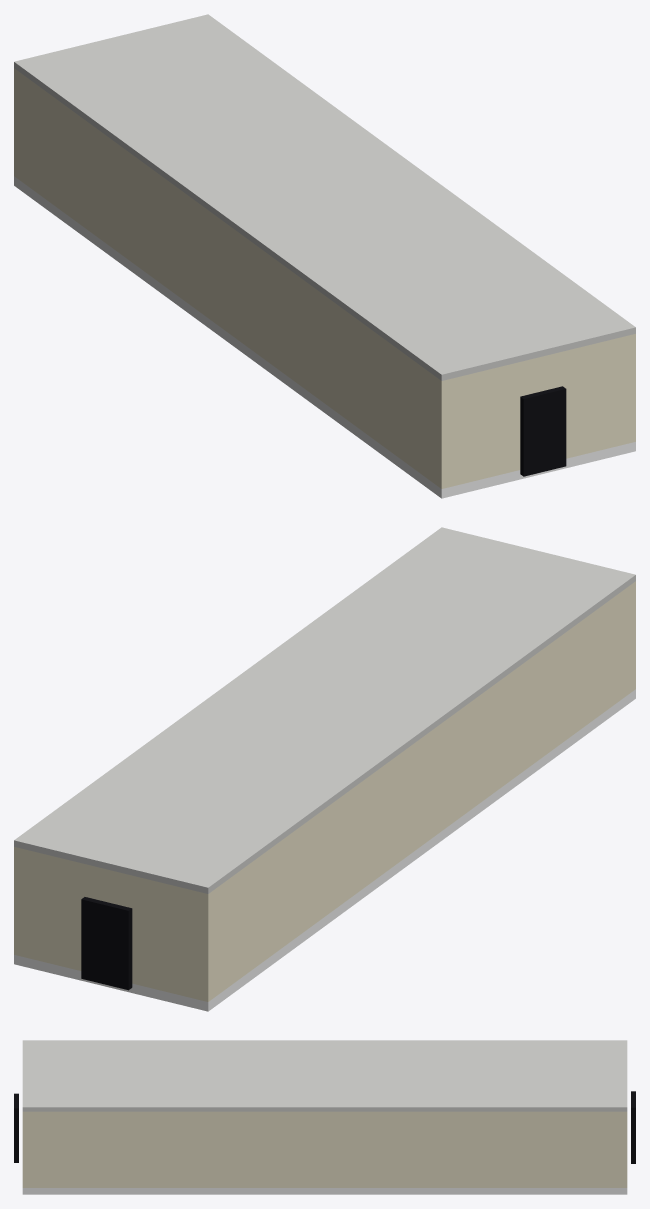
File: rdwe_painted_door.glb
3 views of the same model, one above another, from view 1: azimuth 30°, elevation 25°; view 2: azimuth 150°, elevation 25°; view 3: azimuth 270°, elevation 25° (orthographic). The views are drawn at different scales.
Parts seen in each view (by area): view 1: Room_Ceiling, Room_Wall_W_1, Room_Wall_S_1, Room_Wall_S_3, Room_Floor, Beyond_doors, Room_Wall_S_2; view 2: Room_Ceiling, Room_Wall_W_1, Room_Wall_N_1, Room_Wall_N_3, Room_Floor, Beyond_painted, Room_Wall_N_2; view 3: Room_Wall_E_1, Room_Ceiling, Room_Floor, Room_Wall_N_3, Room_Wall_S_3, Beyond_painted, Beyond_doors.
Boxes of the visible parts, <box> form: Room_Ceiling: <box>14,14,635,380</box>; Room_Wall_W_1: <box>17,71,438,486</box>; Room_Wall_S_1: <box>438,361,524,488</box>; Room_Wall_S_3: <box>553,334,635,458</box>; Room_Floor: <box>14,176,635,498</box>; Beyond_doors: <box>520,386,566,476</box>; Room_Wall_S_2: <box>524,354,552,395</box>; Room_Ceiling: <box>14,527,635,893</box>; Room_Wall_W_1: <box>211,584,632,999</box>; Room_Wall_N_1: <box>128,874,211,1001</box>; Room_Wall_N_3: <box>14,847,94,970</box>; Room_Floor: <box>14,689,635,1011</box>; Beyond_painted: <box>81,897,132,990</box>; Room_Wall_N_2: <box>94,866,127,907</box>; Room_Wall_E_1: <box>27,1111,622,1187</box>; Room_Ceiling: <box>22,1040,627,1111</box>; Room_Floor: <box>22,1188,627,1194</box>; Room_Wall_N_3: <box>622,1111,627,1187</box>; Room_Wall_S_3: <box>22,1111,27,1187</box>; Beyond_painted: <box>631,1091,635,1163</box>; Beyond_doors: <box>14,1093,18,1162</box>.
Size of the model in its own units: 6.4 by 3.9 by 25.1.
